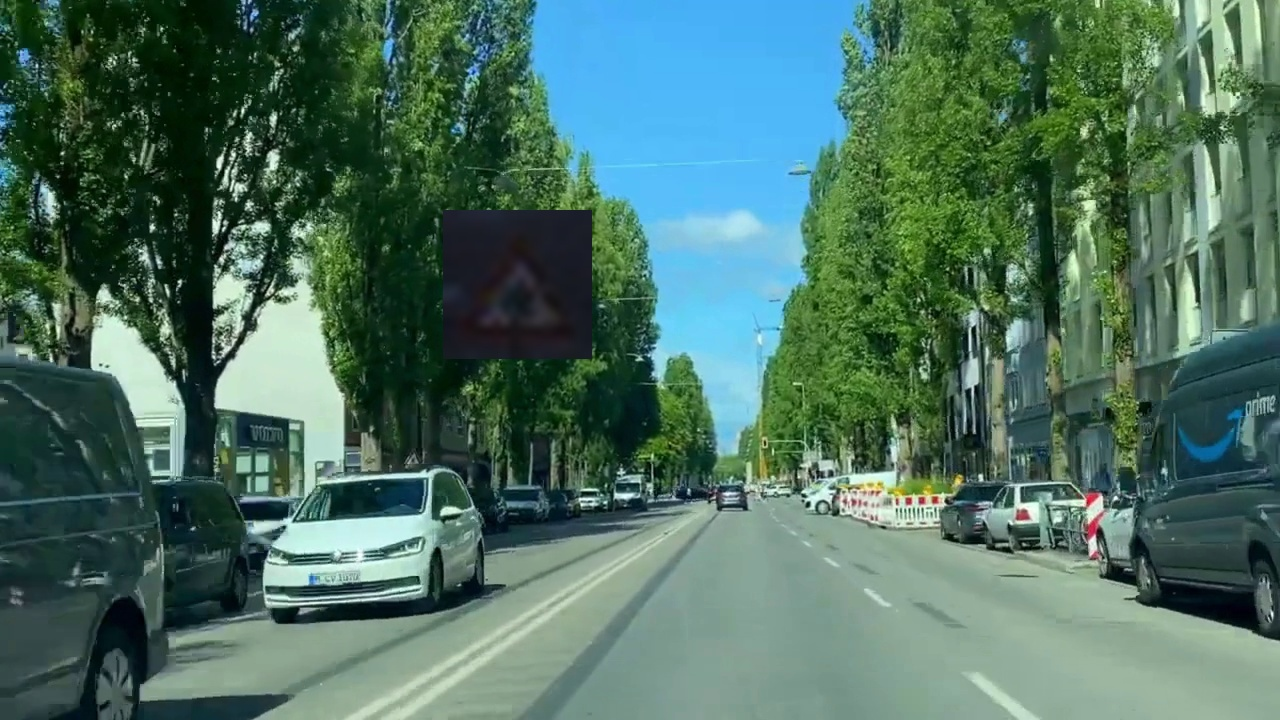Ice/snow: (443, 210, 592, 359)
